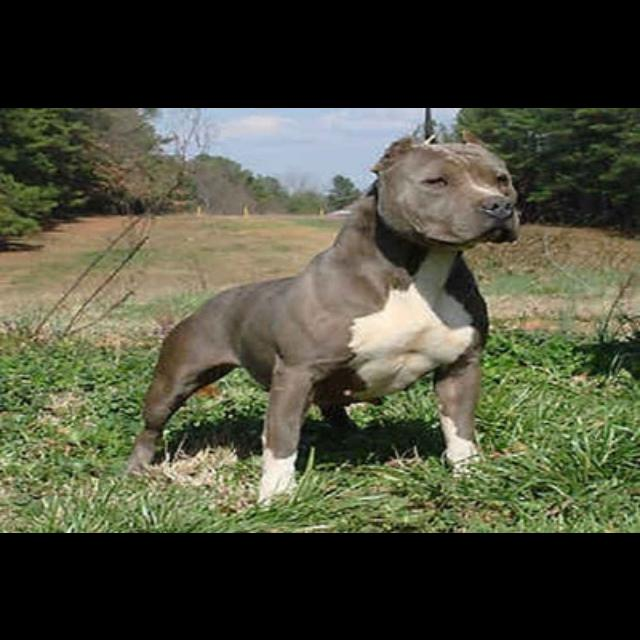am_pit_bull_terrier: (125, 129, 521, 508)
